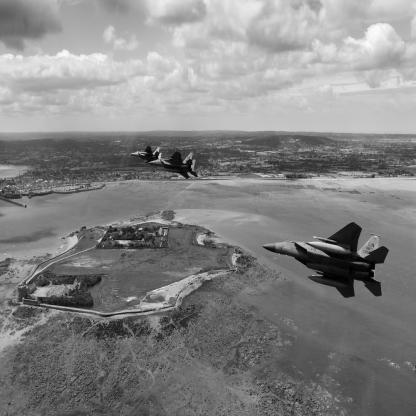F15: (263, 222, 390, 300), (149, 152, 200, 181), (130, 146, 164, 163)
